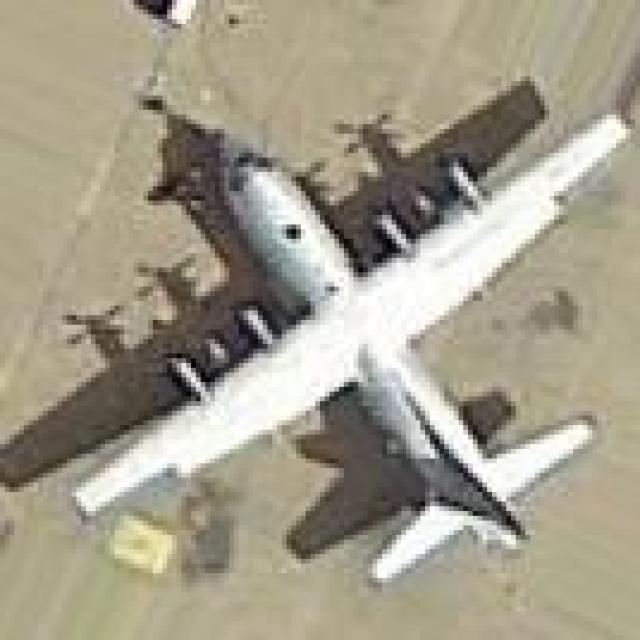C-130_TopDown: (0, 73, 633, 586)
